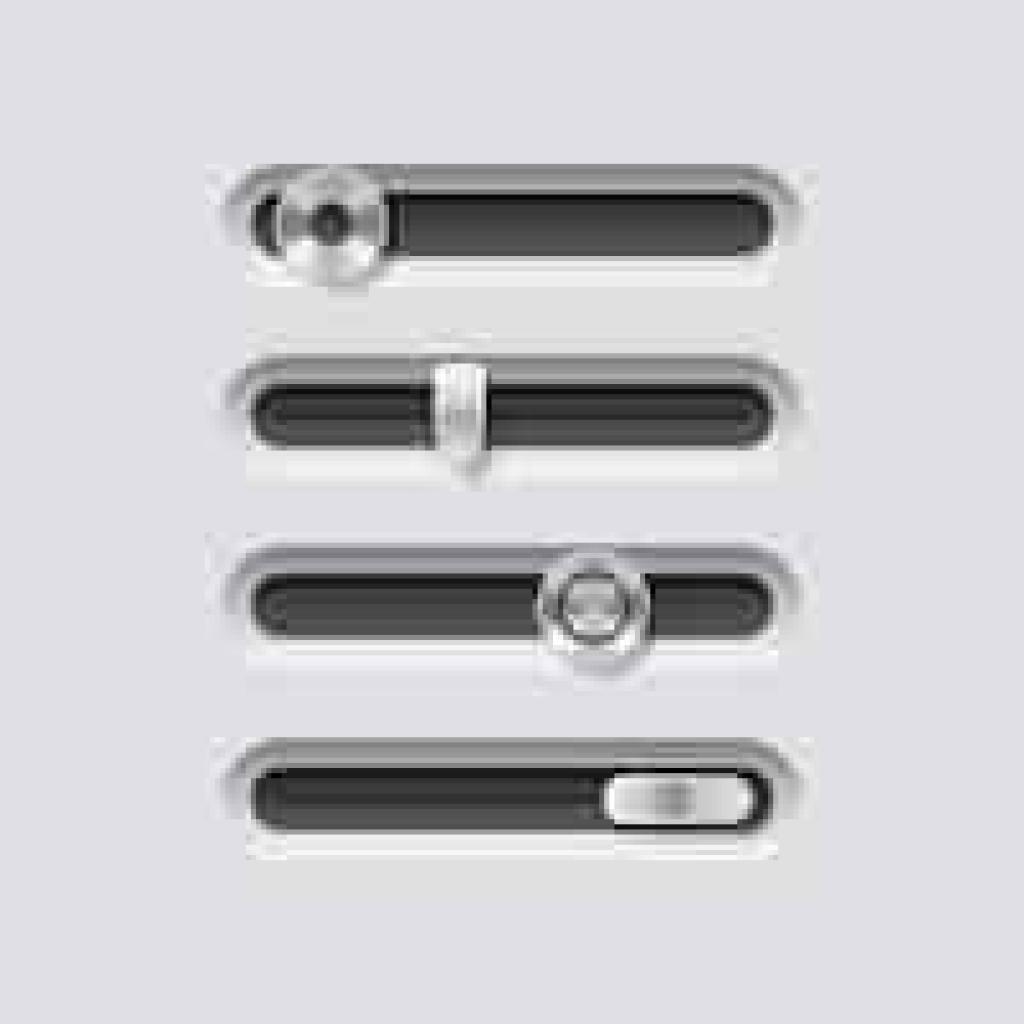slider: (198, 528, 809, 676), (211, 149, 816, 297), (198, 718, 812, 862), (217, 325, 798, 477)
